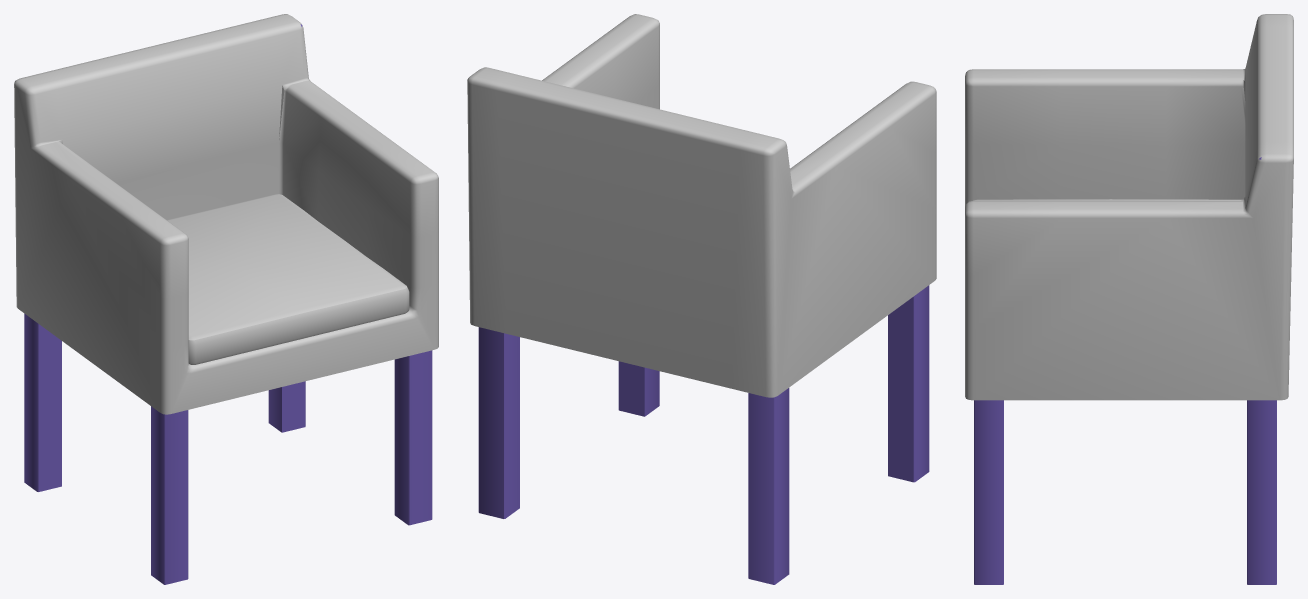
Rendered from MZBCH02.FBX.
The picture shows the model from 3 angles, left to right: view 1: azimuth 30°, elevation 25°; view 2: azimuth 150°, elevation 25°; view 3: azimuth 270°, elevation 25°; orthographic projection. The views are drawn at different scales.
Parts seen in each view (by area): view 1: MZBCH02; view 2: MZBCH02; view 3: MZBCH02.
Part boxes in pixels (x1,y1,x2,y2): MZBCH02: (14, 14, 438, 584); MZBCH02: (467, 14, 936, 584); MZBCH02: (965, 14, 1293, 584).
Size of the model in its own units: 56 by 53.4 by 77.
